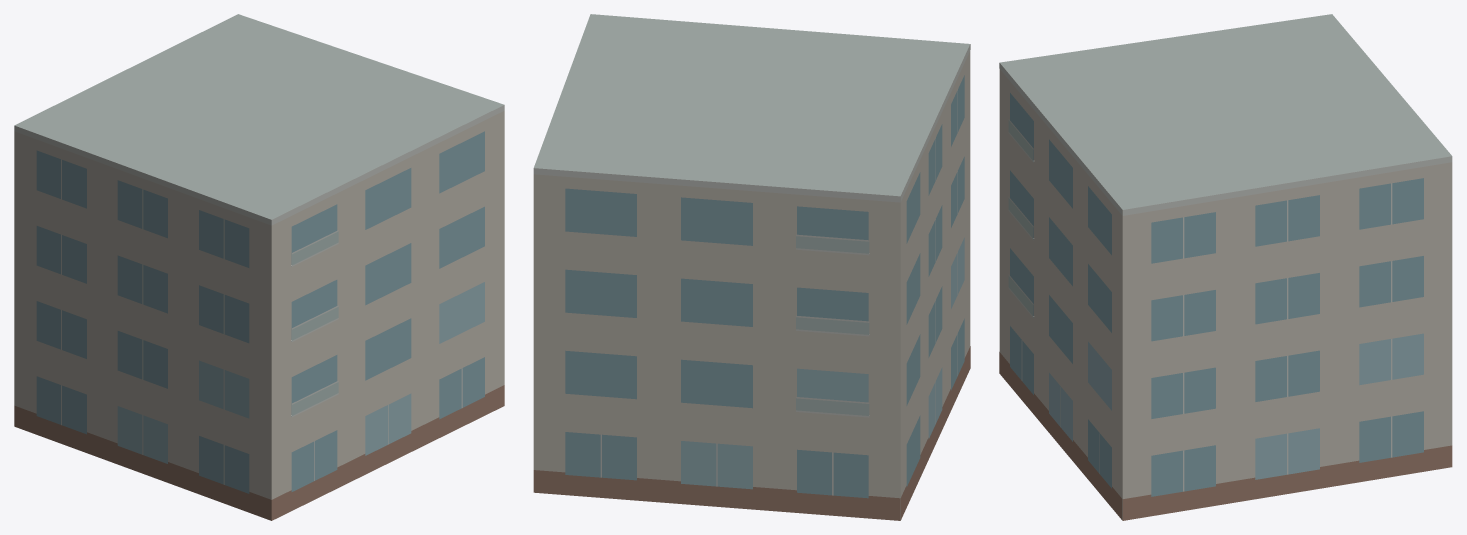
Rendered from survey-upis-33034313.glb.
3 views of the same model, side by side, from view 1: azimuth 30°, elevation 25°; view 2: azimuth 150°, elevation 25°; view 3: azimuth 270°, elevation 25° (orthographic). The views are drawn at different scales.
Visible parts, largest first — view 1: survey-upis-33034313.tmp; view 2: survey-upis-33034313.tmp; view 3: survey-upis-33034313.tmp.
Part boxes in pixels (left/top/right/bottom): survey-upis-33034313.tmp: left=14, top=14, right=504, bottom=520; survey-upis-33034313.tmp: left=533, top=14, right=970, bottom=520; survey-upis-33034313.tmp: left=999, top=14, right=1452, bottom=520.
Size of the model in its own units: 17.18 by 12.7 by 16.78.
